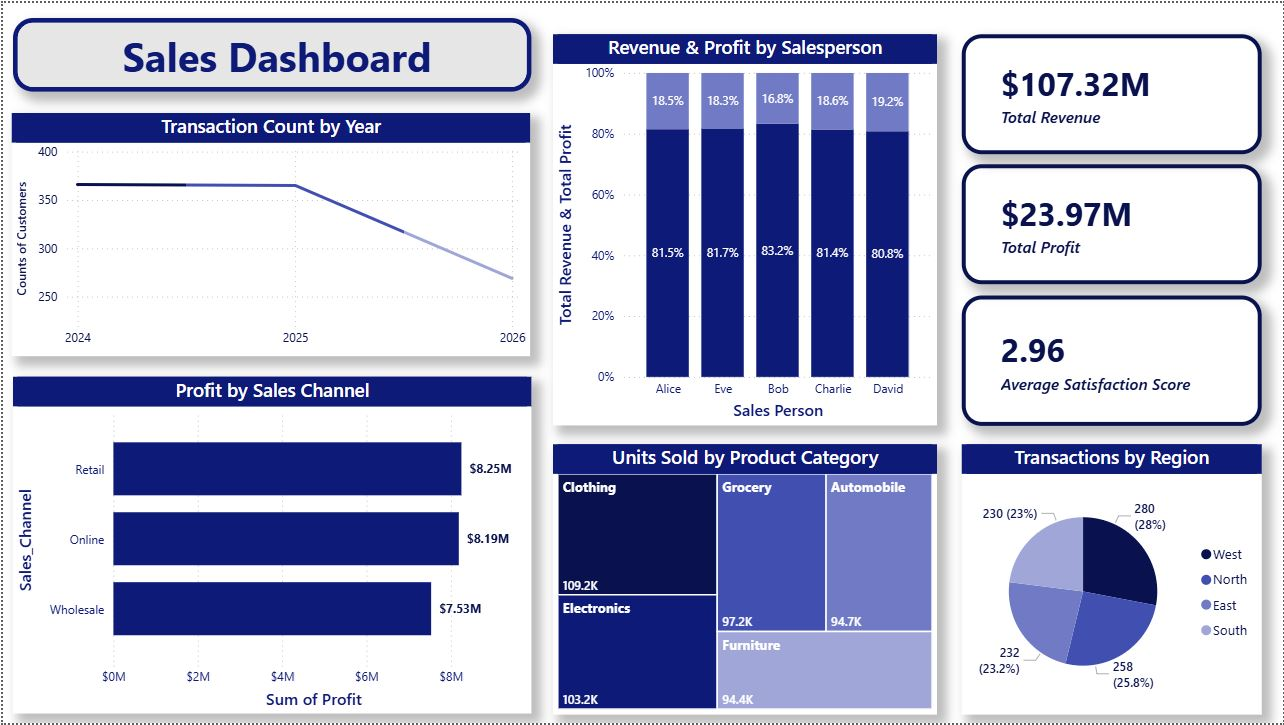

The dashboard page shown, as its layout file describes it:
{"tool":"powerbi","page":{"name":"Page 1","canvas":[1280,720],"ordinal":0},"visuals":[{"type":"lineChart","title":"Transaction Count by Year","fields":{"Category":["large_sales_data.Date.Variation.Date Hierarchy.Year"],"Y":["CountNonNull(large_sales_data.Transaction_ID)"]},"box":[8.6,110,518.6,242.9],"z":0},{"type":"hundredPercentStackedColumnChart","title":"Revenue & Profit by Salesperson","fields":{"Category":["large_sales_data.Salesperson"],"Y":["Sum(large_sales_data.Revenue)","Sum(large_sales_data.Profit)"]},"box":[550,31.4,384.3,391.4],"z":1000},{"type":"treemap","title":"Units Sold by Product Category","fields":{"Group":["large_sales_data.Product_Category"],"Values":["Sum(large_sales_data.Units_Sold)"]},"box":[550,441.4,384.3,270],"z":2000},{"type":"clusteredBarChart","title":"Profit by Sales Channel","fields":{"Category":["large_sales_data.Sales_Channel"],"Y":["Sum(large_sales_data.Profit)"]},"box":[10,374.3,518.6,337.1],"z":3000},{"type":"cardVisual","fields":{"Data":["Avg(large_sales_data.Customer_Satisfaction)"]},"box":[958.8,292.9,300,130],"z":4000},{"type":"cardVisual","fields":{"Data":["Sum(large_sales_data.Profit)"]},"box":[958.6,161.4,300,120],"z":5000},{"type":"cardVisual","fields":{"Data":["Sum(large_sales_data.Revenue)"]},"box":[958.6,31.4,300,120],"z":6000},{"type":"pieChart","title":"Transactions by Region","fields":{"Category":["large_sales_data.Region"],"Y":["CountNonNull(large_sales_data.Transaction_ID)"]},"box":[958.6,441.4,300,270],"z":7000},{"type":"textbox","title":"Sales Dashboard","box":[10,14.5,518.5,73.5],"z":7001}]}

Visuals, with their boxes in screenshot pixels (x1, y1, x2, y2), scaled from the page's 1280x720 canvas onto the 1284x725 screenshot:
"Transaction Count by Year" lineChart: bbox=[9, 111, 529, 355]
"Revenue & Profit by Salesperson" hundredPercentStackedColumnChart: bbox=[552, 32, 937, 426]
"Units Sold by Product Category" treemap: bbox=[552, 444, 937, 716]
"Profit by Sales Channel" clusteredBarChart: bbox=[10, 377, 530, 716]
cardVisual - Avg(large_sales_data.Customer_Satisfaction): bbox=[962, 295, 1263, 426]
cardVisual - Sum(large_sales_data.Profit): bbox=[962, 163, 1263, 283]
cardVisual - Sum(large_sales_data.Revenue): bbox=[962, 32, 1263, 152]
"Transactions by Region" pieChart: bbox=[962, 444, 1263, 716]
"Sales Dashboard" textbox: bbox=[10, 15, 530, 89]
